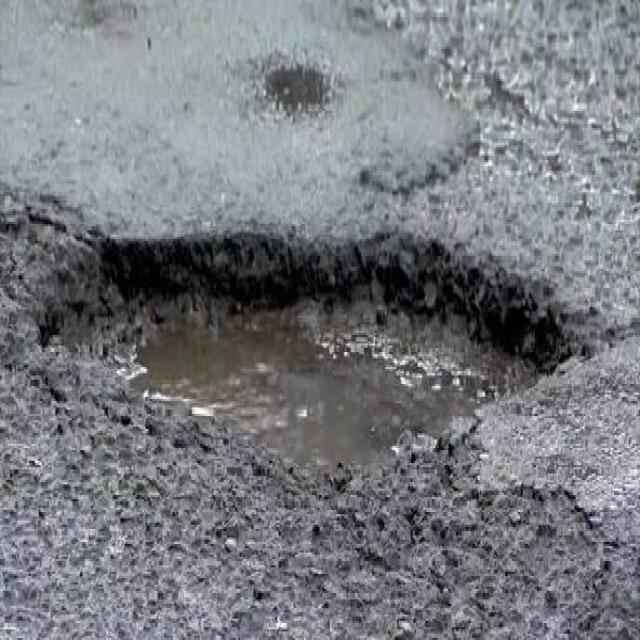Pothole: (40, 230, 570, 471)
